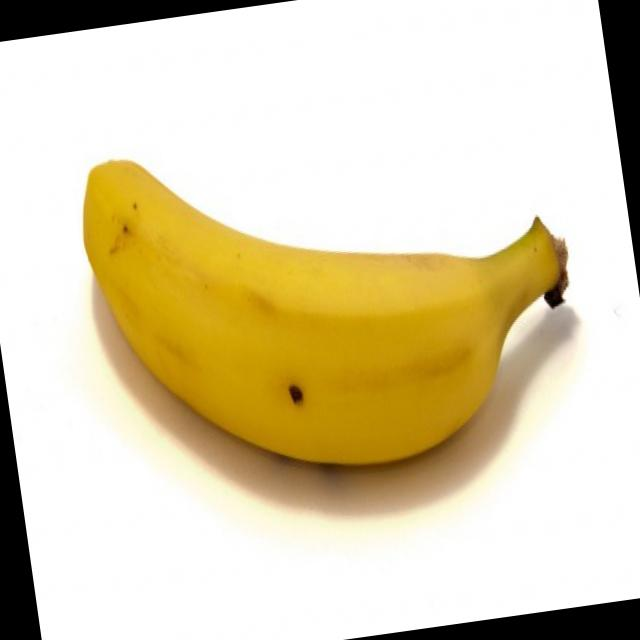banana: (65, 86, 602, 544)
